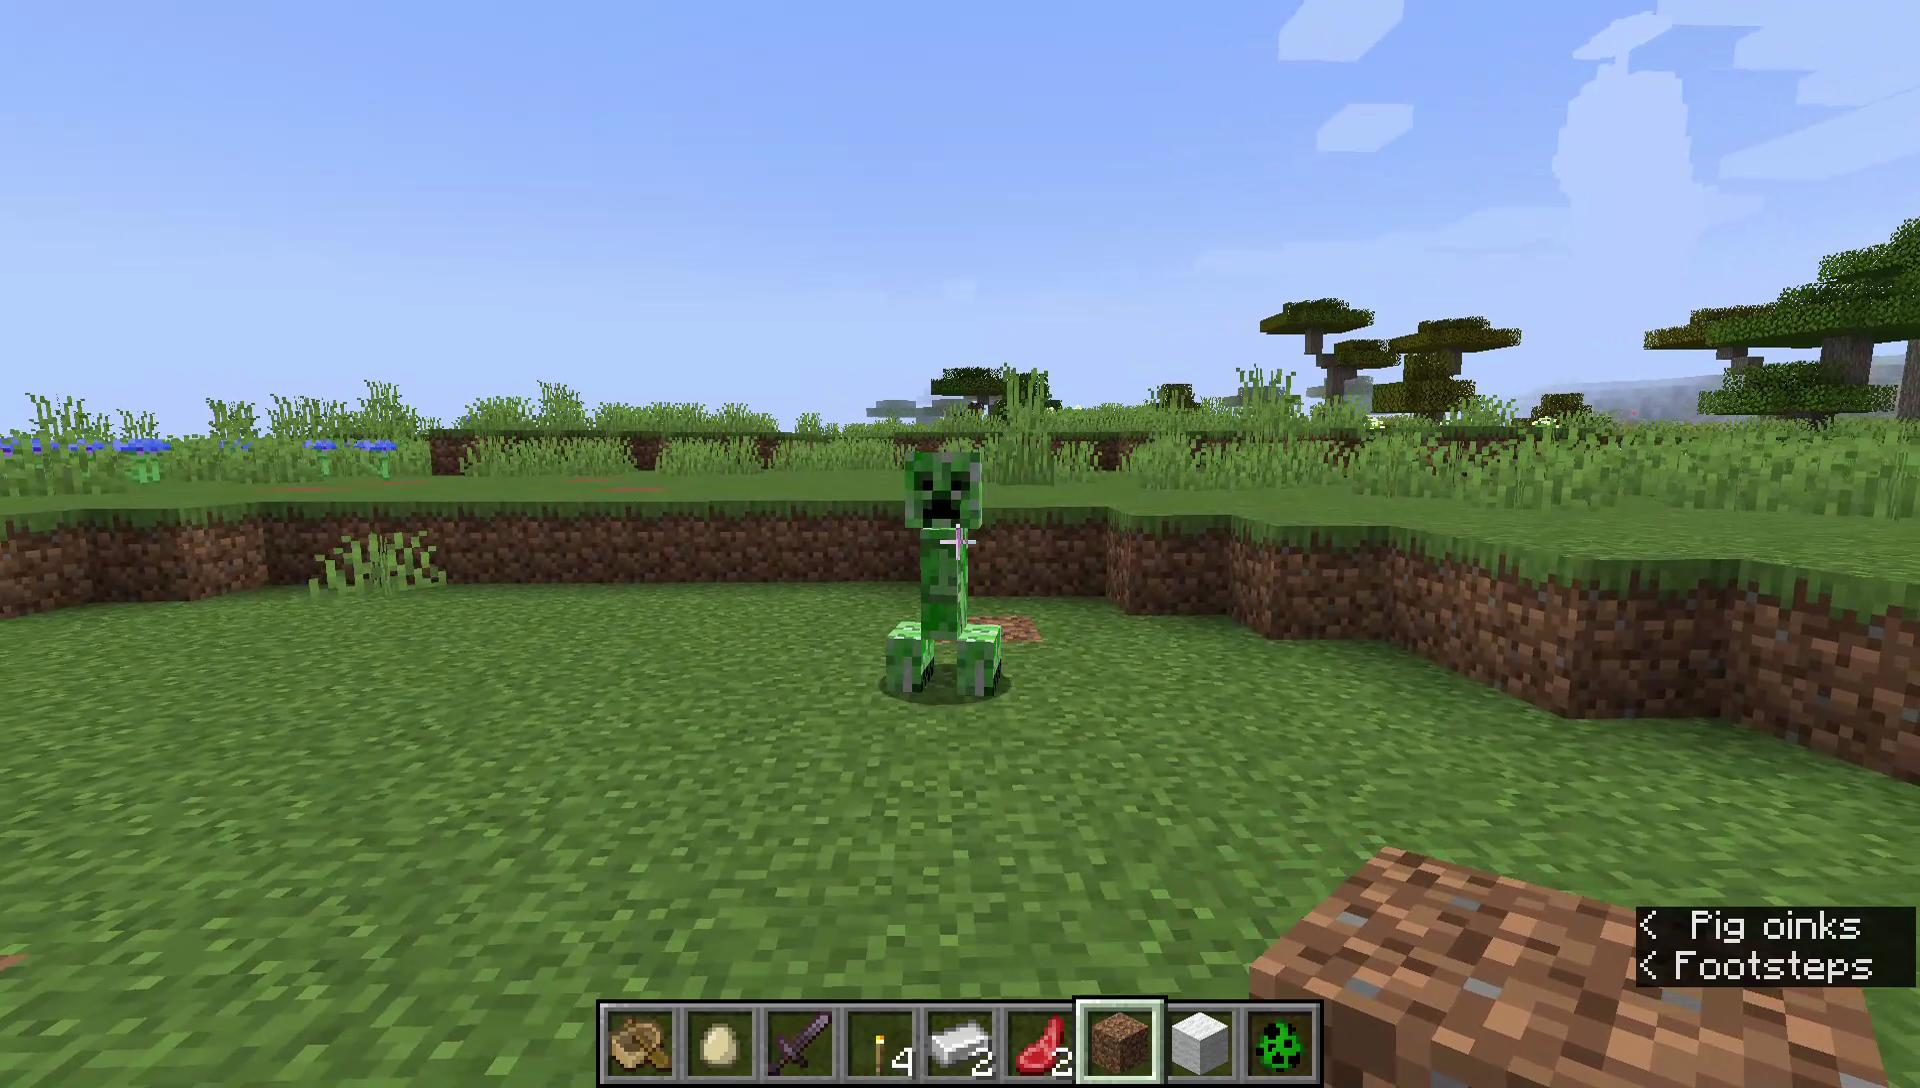creeper: (880, 438, 1015, 708)
